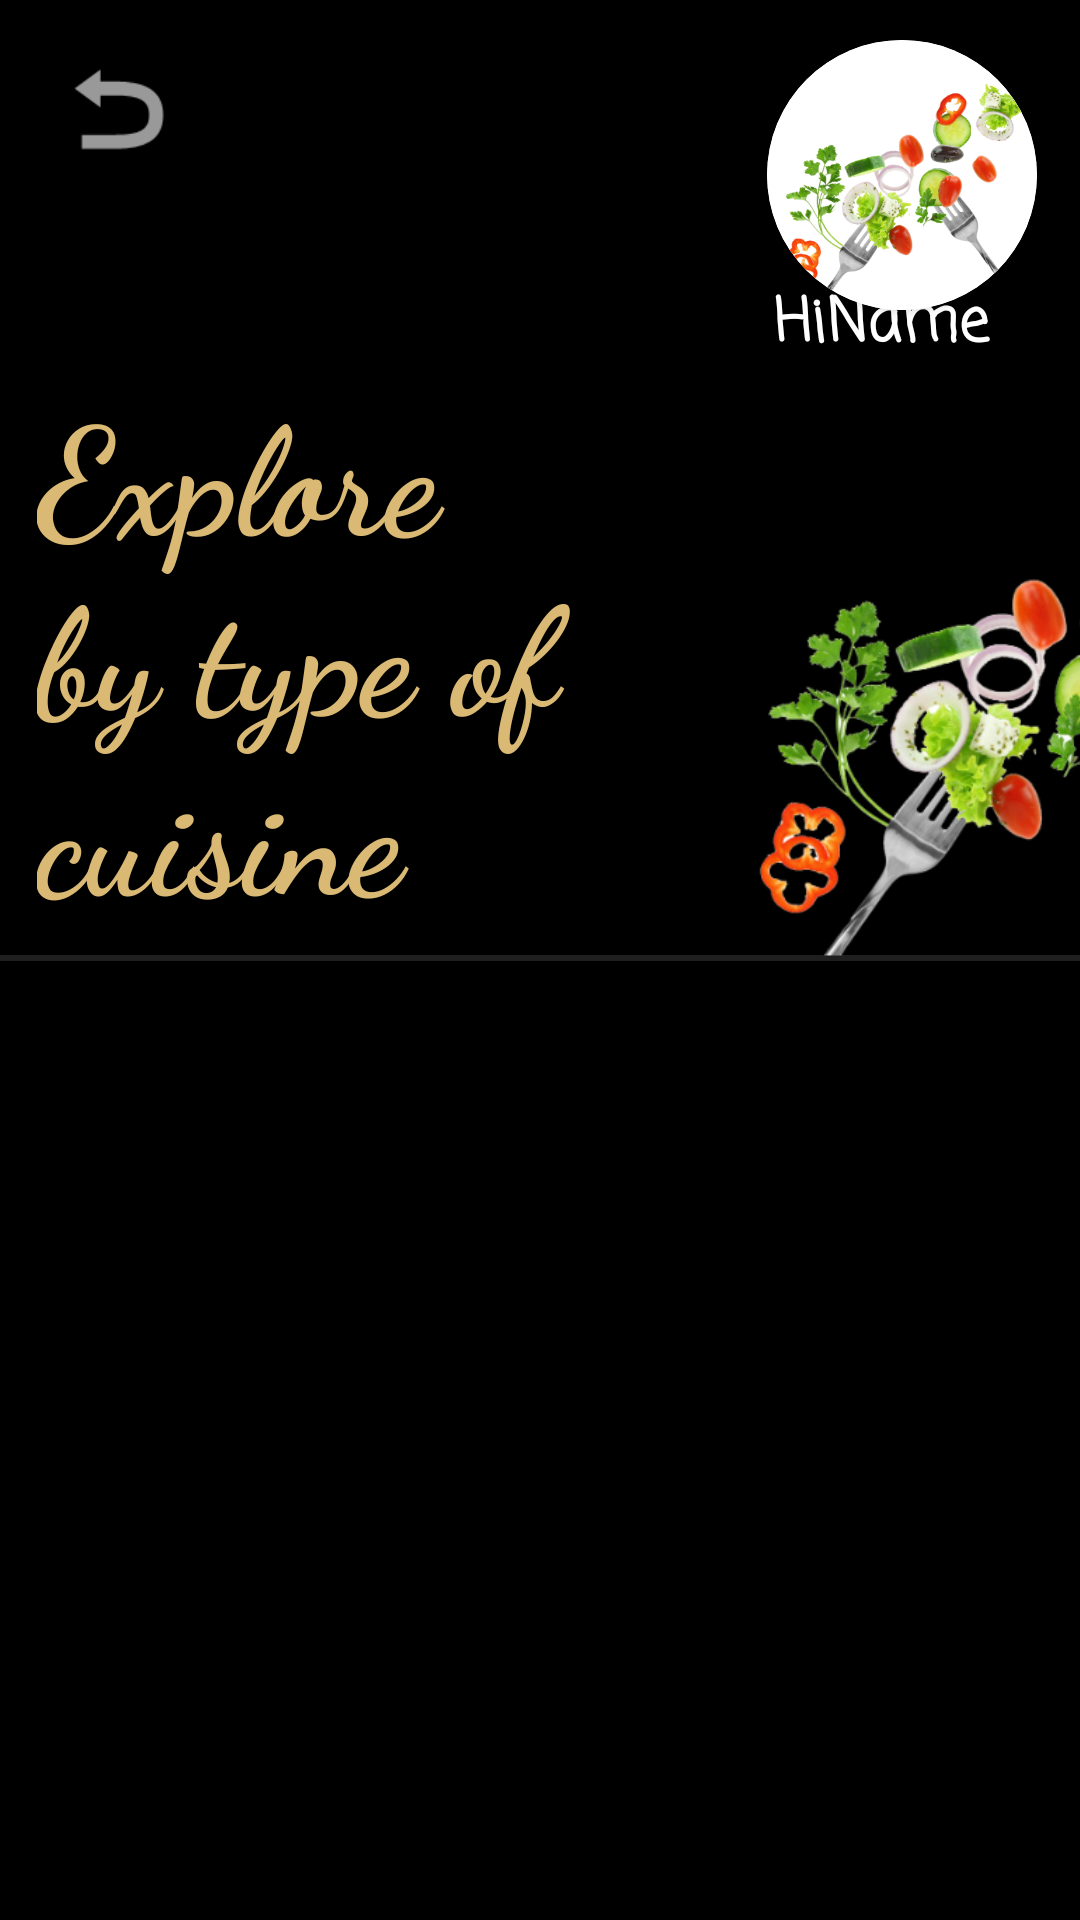

Icon bounding boxes for this 1080px×1920px phone screenshot, format (x1, y1, x2, y2):
revert: (75, 69, 164, 150)
